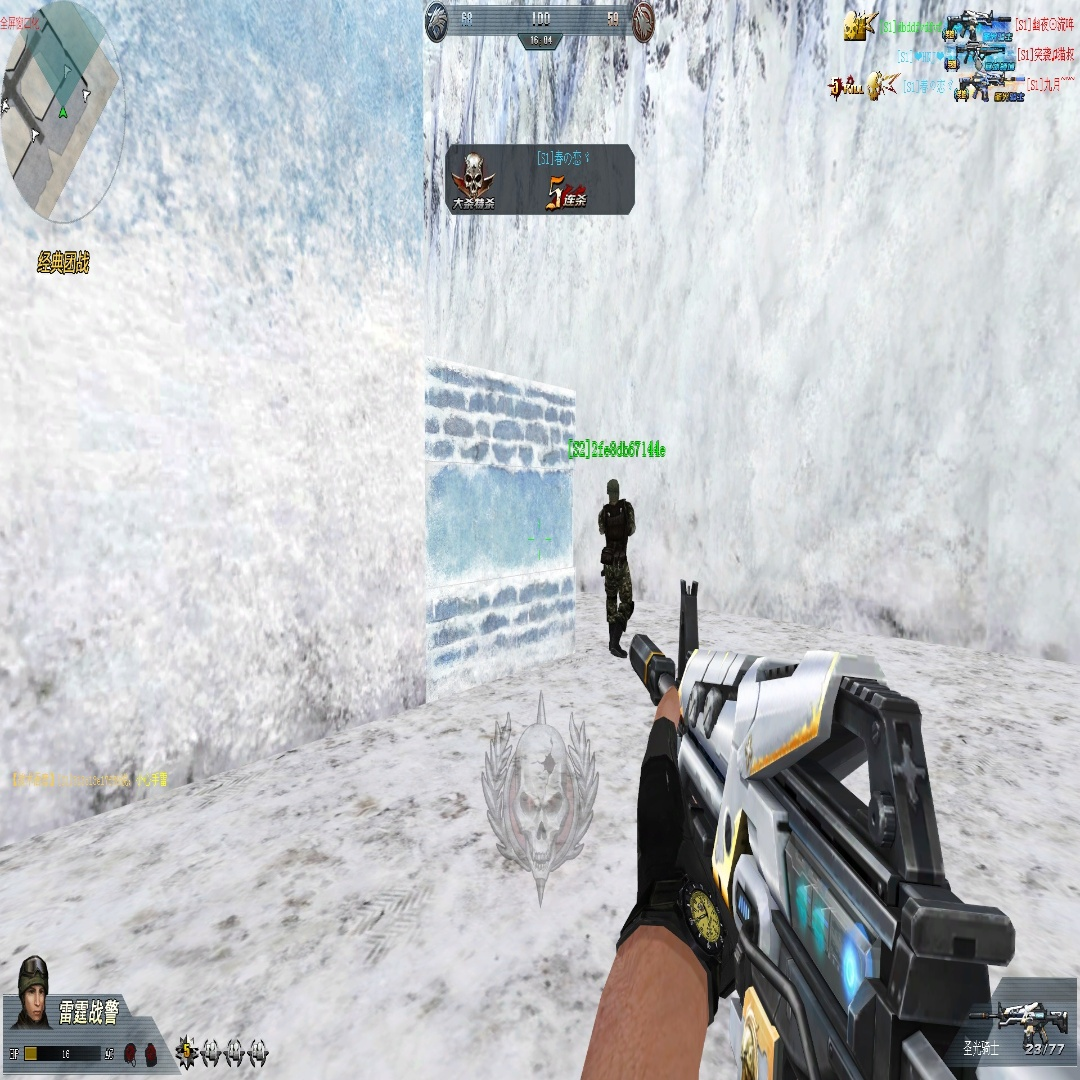t: (597, 477, 637, 655)
